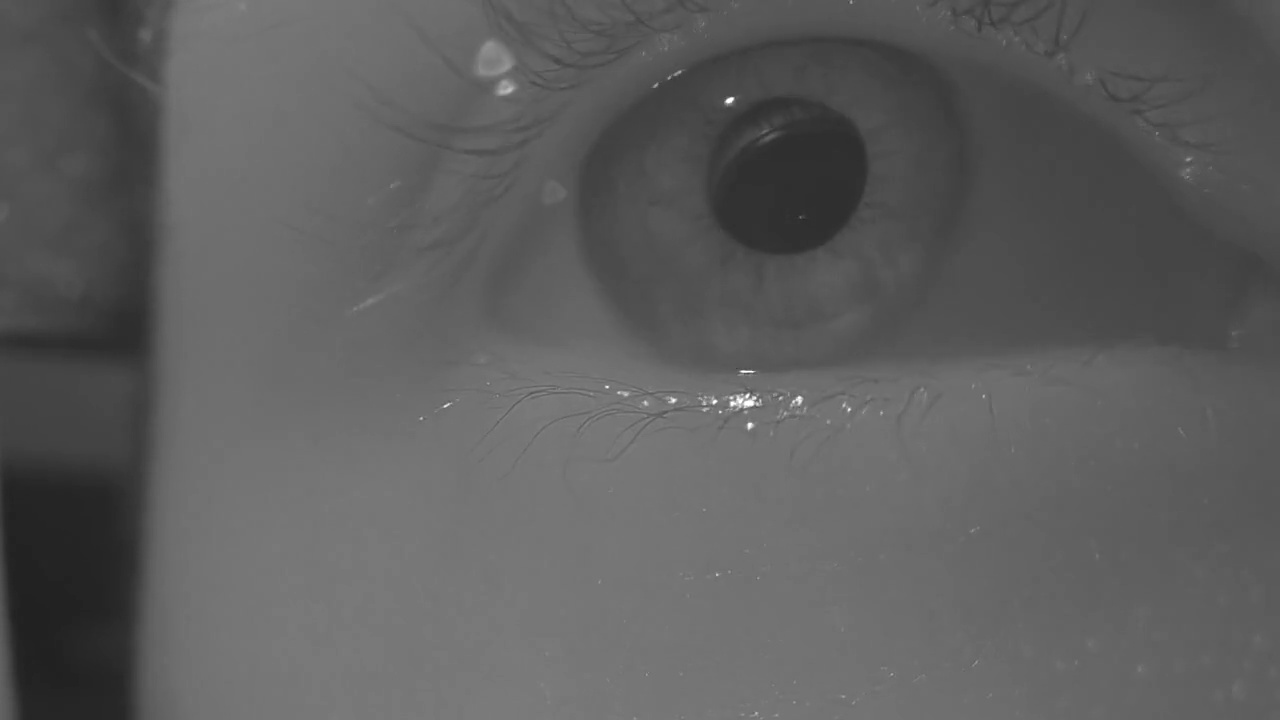pupil: (705, 97, 866, 253)
